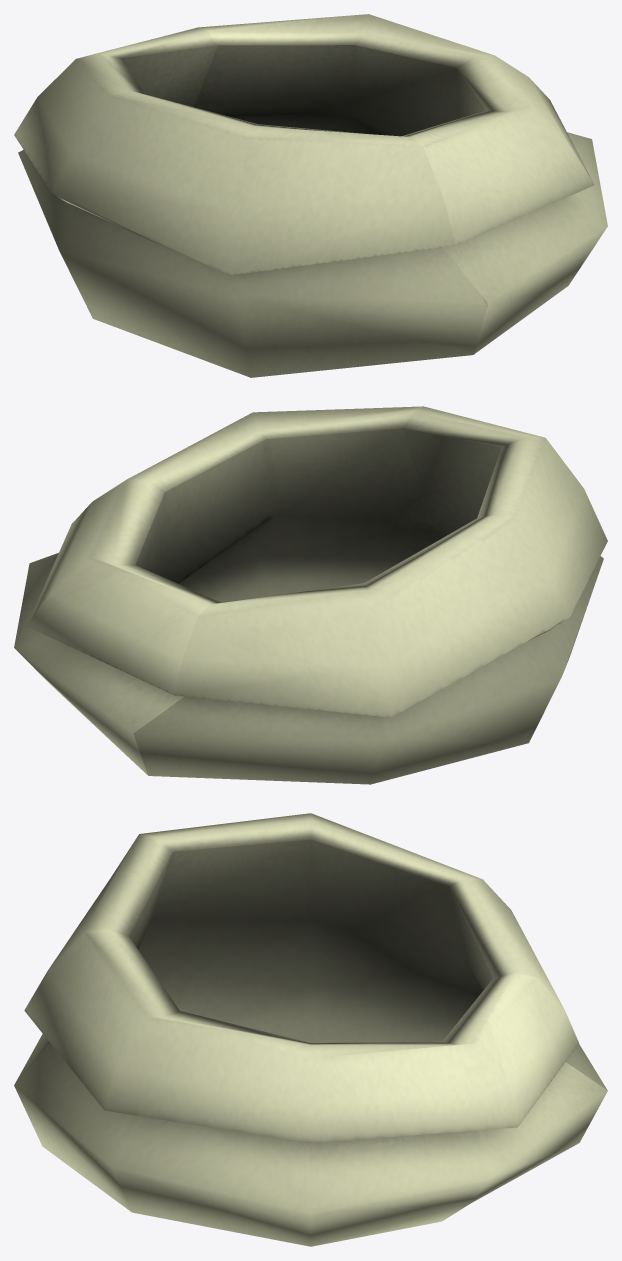
Rendered from empty_bag.fbx.
The picture shows the model from 3 angles, top to bottom: view 1: azimuth 30°, elevation 25°; view 2: azimuth 150°, elevation 25°; view 3: azimuth 270°, elevation 25°; orthographic projection.
Parts seen in each view (by area): view 1: Obj_Mill_Bag_empty; view 2: Obj_Mill_Bag_empty; view 3: Obj_Mill_Bag_empty.
Part boxes in pixels (x1,y1,x2,y2): Obj_Mill_Bag_empty: (14, 14, 607, 377); Obj_Mill_Bag_empty: (14, 406, 607, 784); Obj_Mill_Bag_empty: (14, 813, 607, 1246).
Bounding box in the file's own units: 127 × 55.39 × 121.
